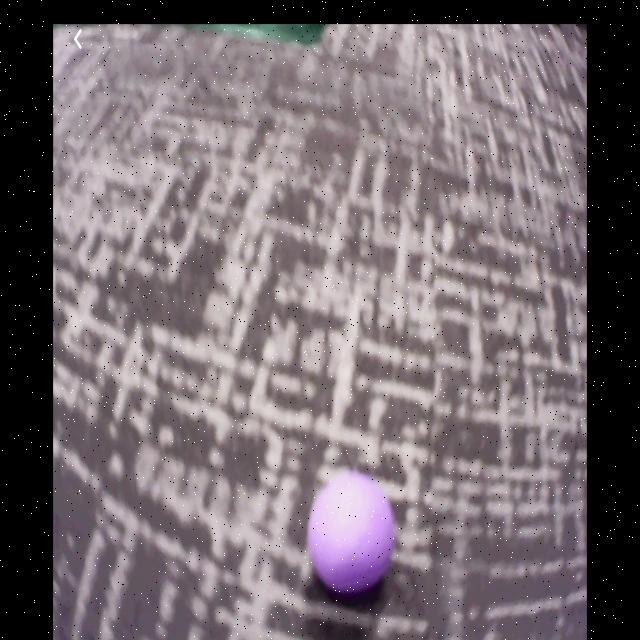ball: (311, 473, 395, 592)
